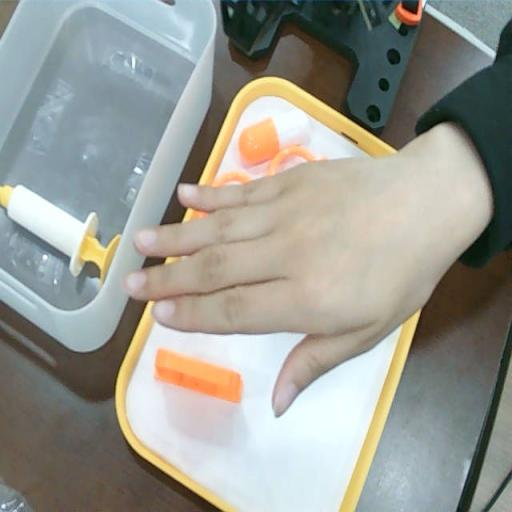hospital: (120, 126, 458, 424)
